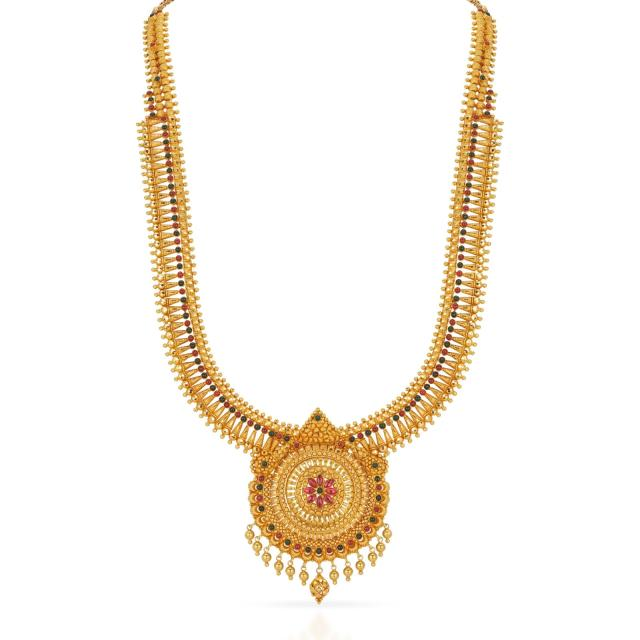missing gem: (386, 418, 393, 426), (263, 515, 268, 521)
